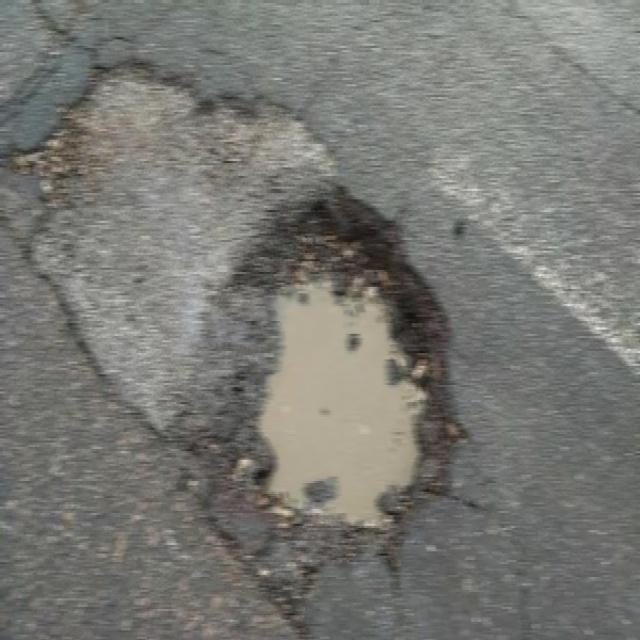Pothole: (234, 170, 456, 590)
